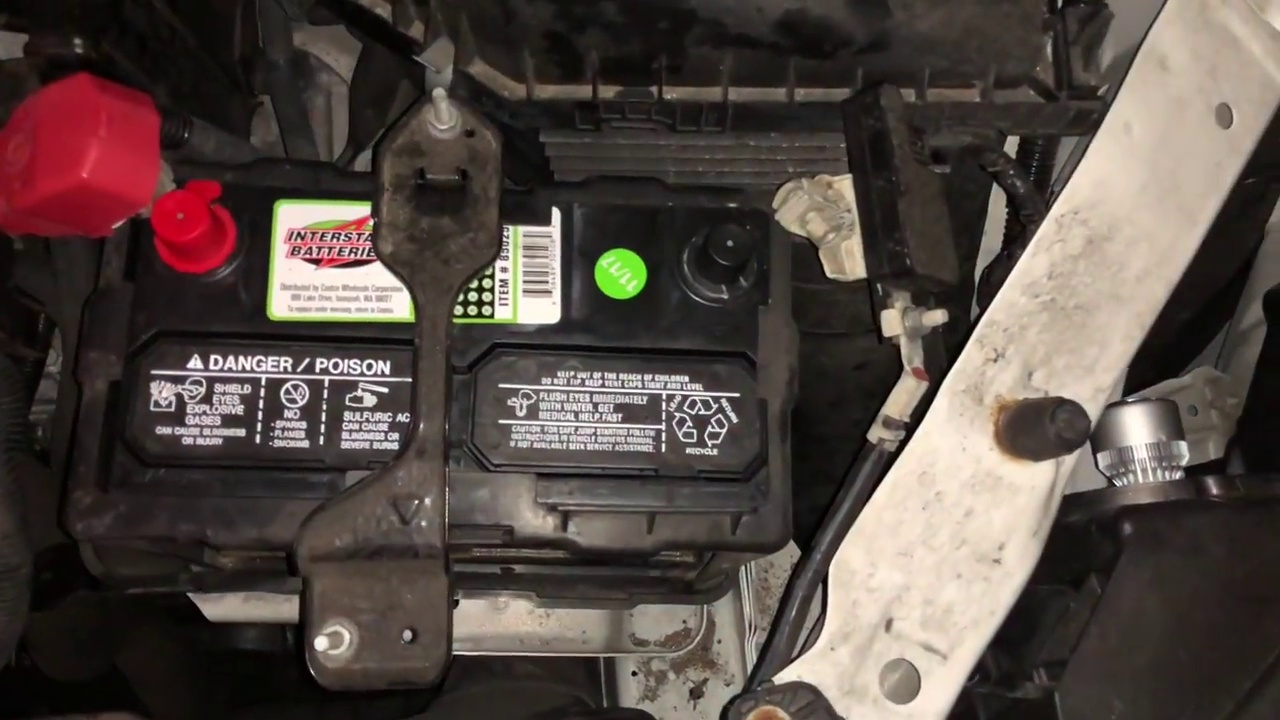battery: (130, 169, 781, 514)
pos_disconnected: (43, 92, 237, 271)
